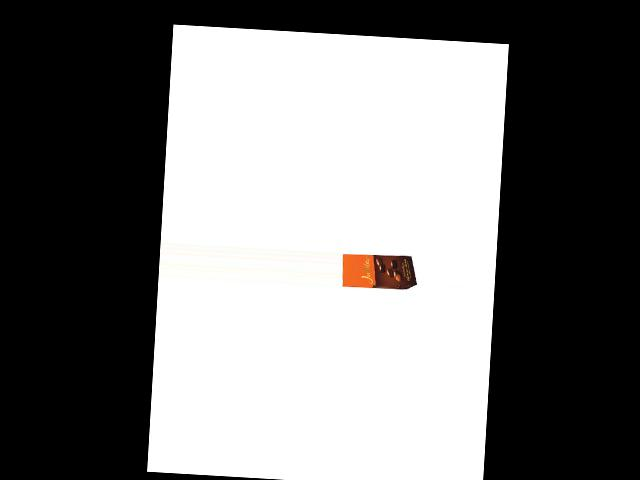chocolate: (341, 248, 417, 292)
